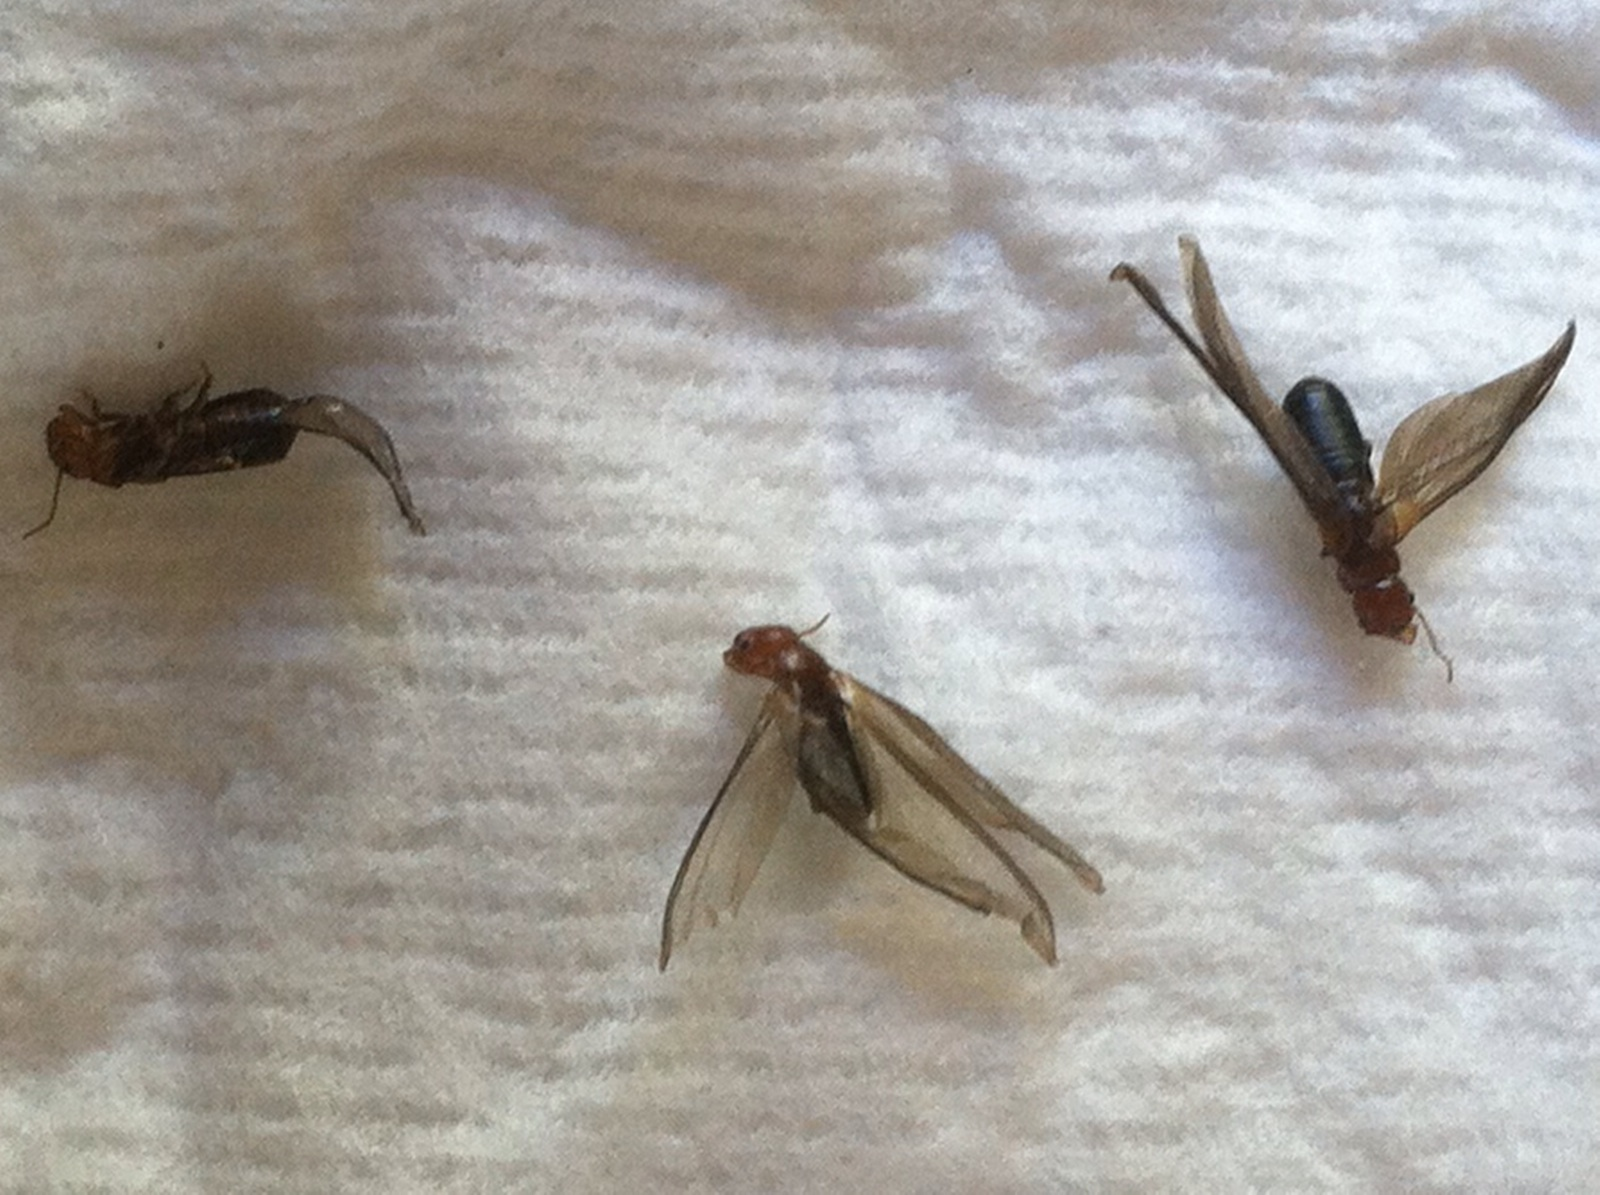flying termite: (1101, 222, 1587, 710), (620, 618, 1137, 1032), (25, 318, 463, 613)
